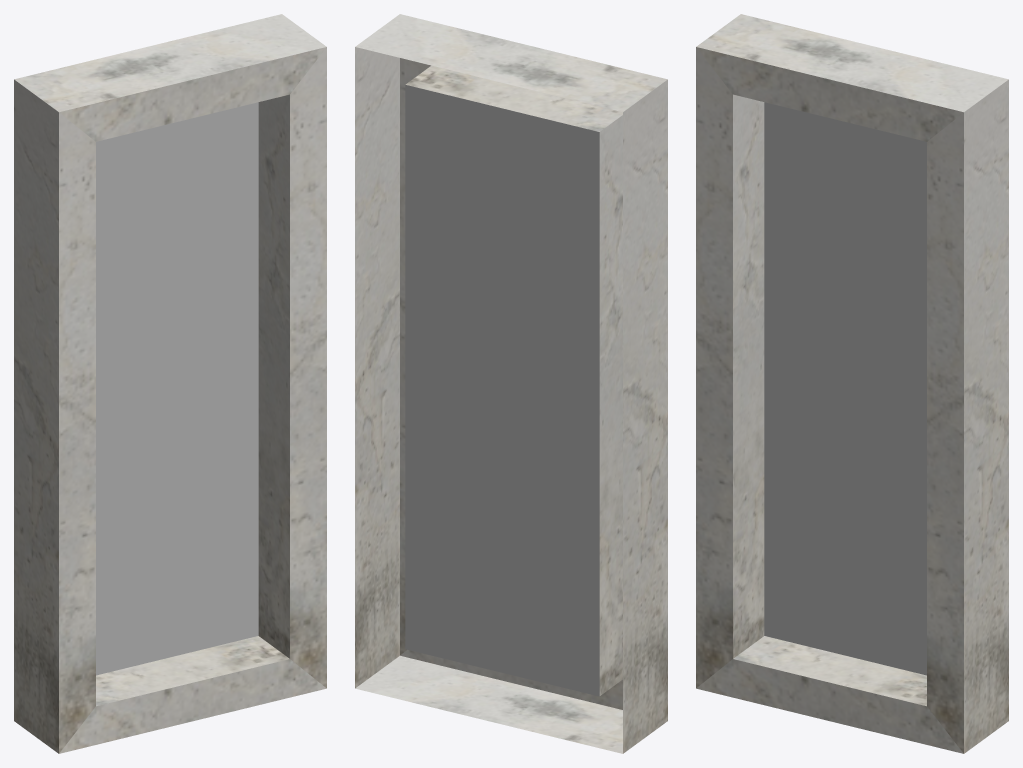
File: window 3.FBX
The picture shows the model from 3 angles, left to right: view 1: azimuth 30°, elevation 25°; view 2: azimuth 150°, elevation 25°; view 3: azimuth 330°, elevation 25°; orthographic projection.
Visible parts, largest first — view 1: window005; view 2: window005; view 3: window005.
Boxes of the visible parts, left/top/right/bottom form: window005: left=14, top=14, right=326, bottom=753; window005: left=355, top=14, right=667, bottom=753; window005: left=696, top=14, right=1008, bottom=753.
Size of the model in its own units: 0.581 by 1.33 by 0.1688.
